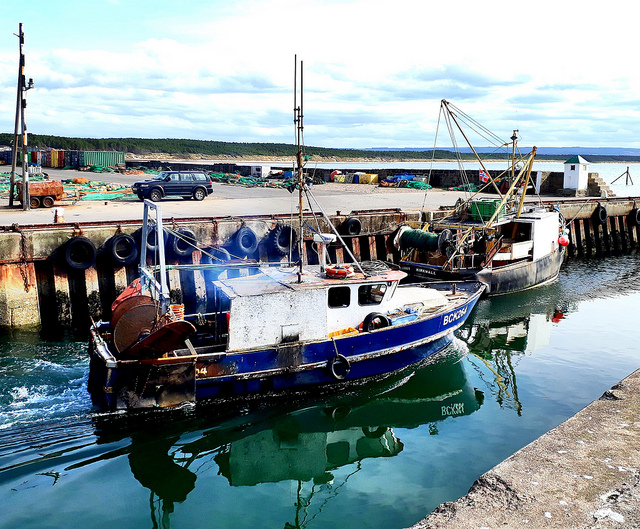fishing_boat: (87, 123, 482, 398), (391, 98, 580, 286)
